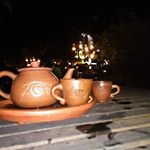cups: (49, 76, 95, 107), (91, 79, 121, 105)
